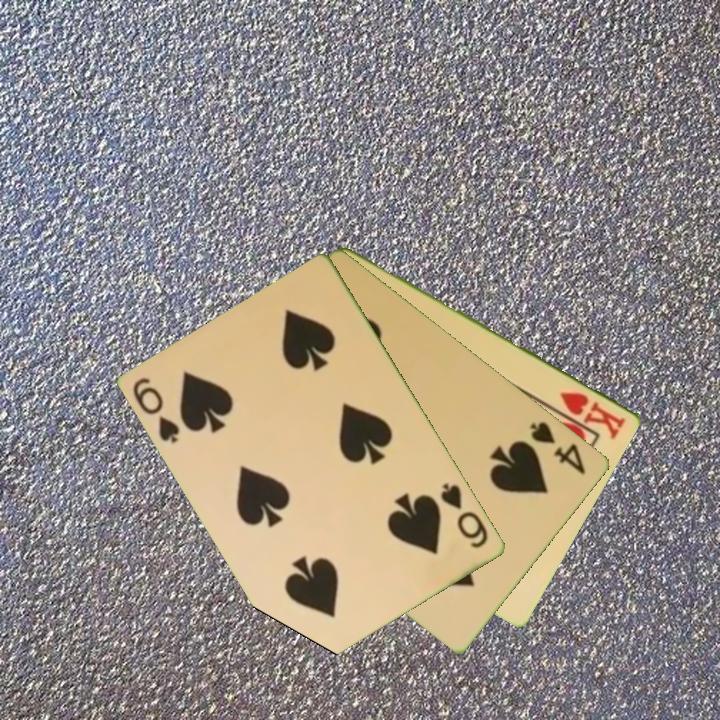4s: (527, 418, 590, 478)
6s: (437, 479, 492, 552), (129, 374, 184, 446)
Kh: (556, 388, 629, 442)
